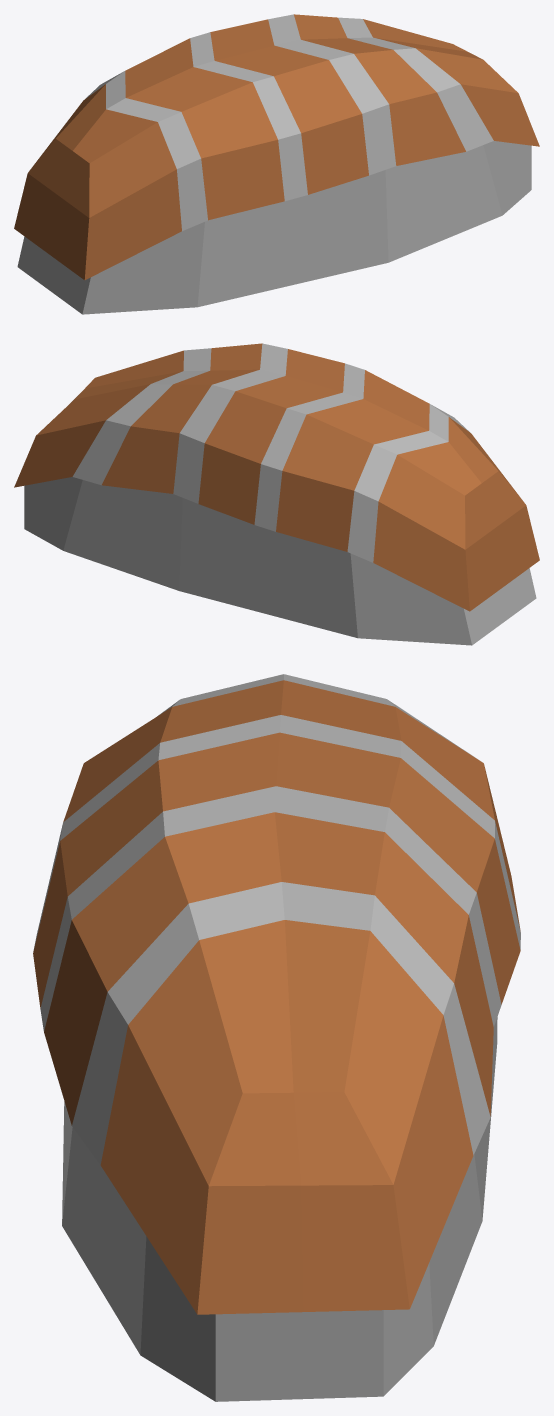
File: sushi_nigiri.glb
3 renders of one model, top to bottom at view 1: azimuth 30°, elevation 25°; view 2: azimuth 150°, elevation 25°; view 3: azimuth 270°, elevation 25°, orthographic. The views are drawn at different scales.
Parts seen in each view (by area): view 1: Sushi_Nigiri1; view 2: Sushi_Nigiri1; view 3: Sushi_Nigiri1.
Part boxes in pixels (x1,y1,x2,y2): Sushi_Nigiri1: (14,14,539,314); Sushi_Nigiri1: (14,343,539,645); Sushi_Nigiri1: (33,674,520,1401).
Bounding box in the file's own units: 0.5976 × 0.2344 × 0.2716.
